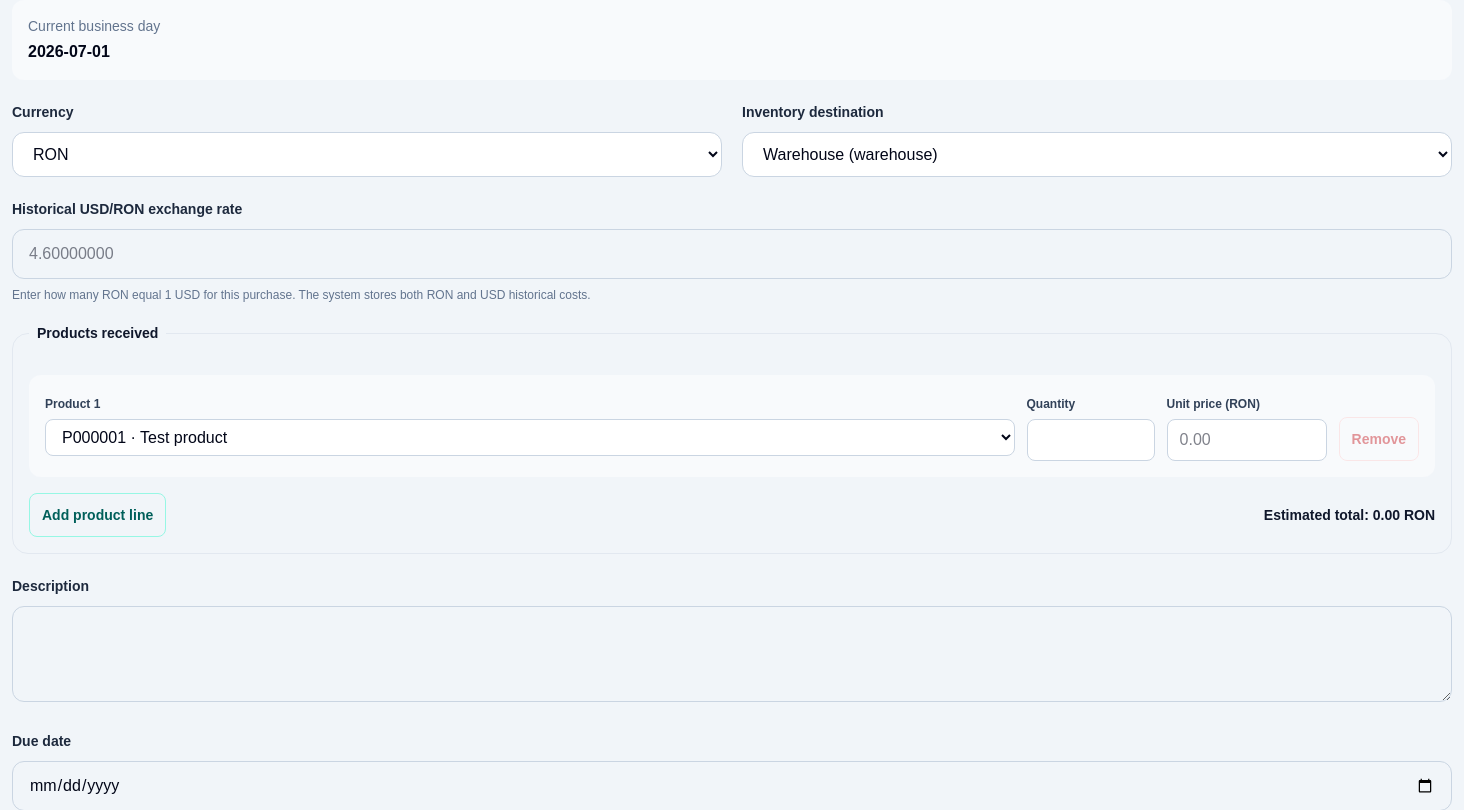
Scenario: supplier purchase forms › adds another received-product line
The image size is (1464, 810).
Expected: the dropdown labelled "Product 1" is shown, top-left (45, 419), bottom-right (1014, 456)
Click the button "Add product line".
click(98, 515)  # box top-left (29, 493), bottom-right (166, 537)
(page scrolled)
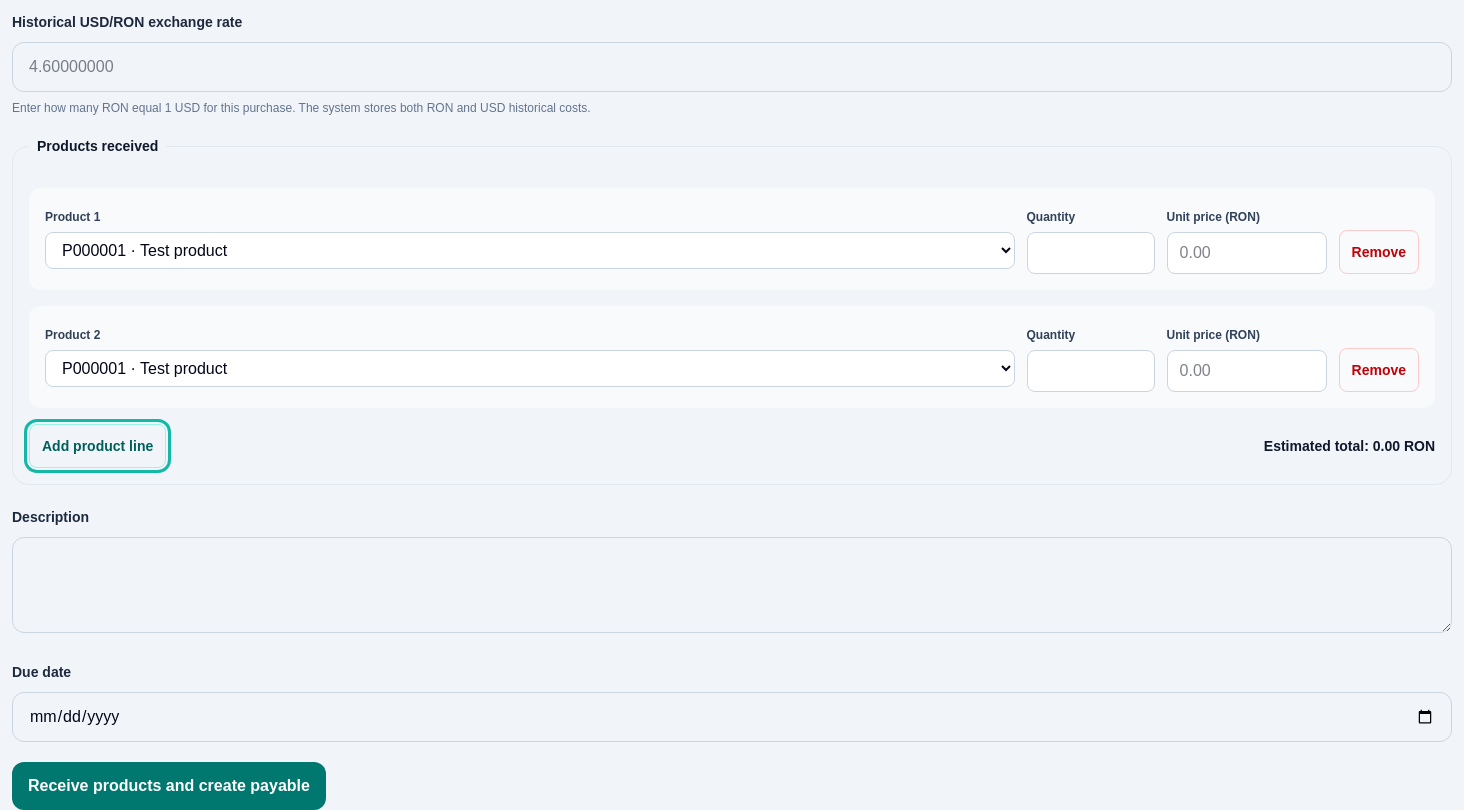
Expected: the button "Receive products and create payable" is shown, top-left (12, 762), bottom-right (326, 809)
Expected: the dropdown labelled "Product 2" is shown, top-left (45, 350), bottom-right (1014, 387)
